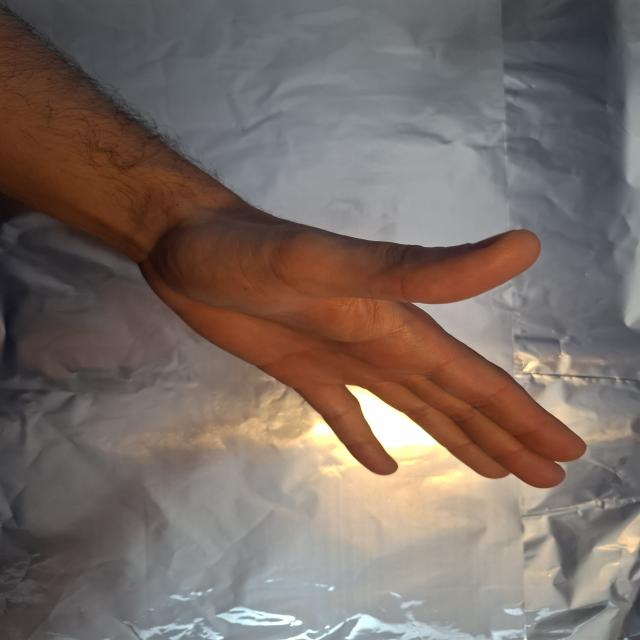glove_off: (135, 207, 588, 491)
